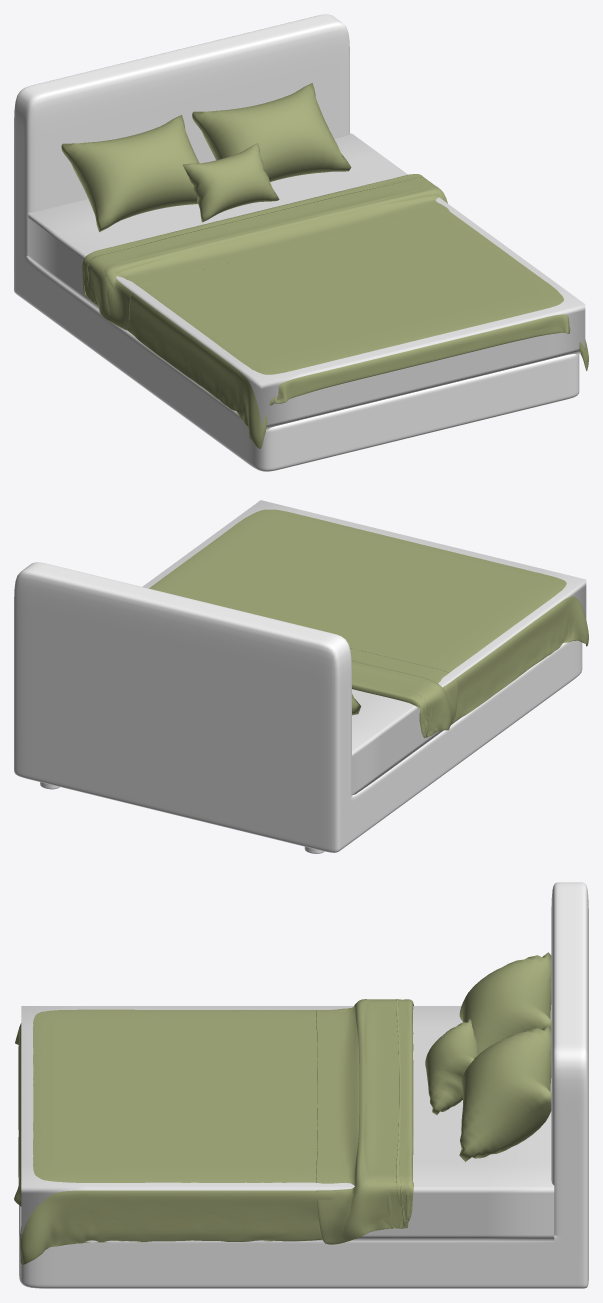
The model's file is bed.glb.
3 views of the same model, one above another, from view 1: azimuth 30°, elevation 25°; view 2: azimuth 150°, elevation 25°; view 3: azimuth 270°, elevation 25° (orthographic). The views are drawn at different scales.
Parts seen in each view (by area): view 1: Blanket, Bed, Matress, Pillow 1, Pillow 2, Pillow 3; view 2: Bed, Blanket, Matress; view 3: Blanket, Bed, Matress, Pillow 2, Pillow 1, Pillow 3.
Boxes of the visible parts, bbox=[...] form: Blanket: bbox=[82, 174, 588, 448]; Bed: bbox=[14, 14, 579, 471]; Matress: bbox=[28, 133, 585, 430]; Pillow 1: bbox=[61, 115, 199, 232]; Pillow 2: bbox=[192, 83, 351, 181]; Pillow 3: bbox=[183, 143, 279, 222]; Bed: bbox=[14, 562, 582, 853]; Blanket: bbox=[149, 509, 588, 738]; Matress: bbox=[142, 500, 586, 795]; Blanket: bbox=[14, 999, 413, 1264]; Bed: bbox=[19, 882, 588, 1288]; Matress: bbox=[21, 1006, 554, 1241]; Pillow 2: bbox=[459, 1025, 551, 1161]; Pillow 1: bbox=[459, 952, 551, 1053]; Pillow 3: bbox=[425, 1019, 478, 1114].
Size of the model in its own units: 12.33 by 7.27 by 15.5.
